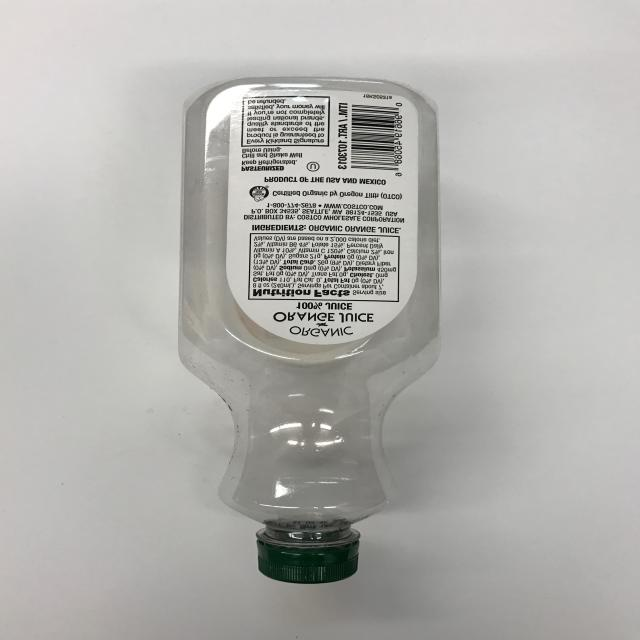plastic: (176, 75, 442, 578)
